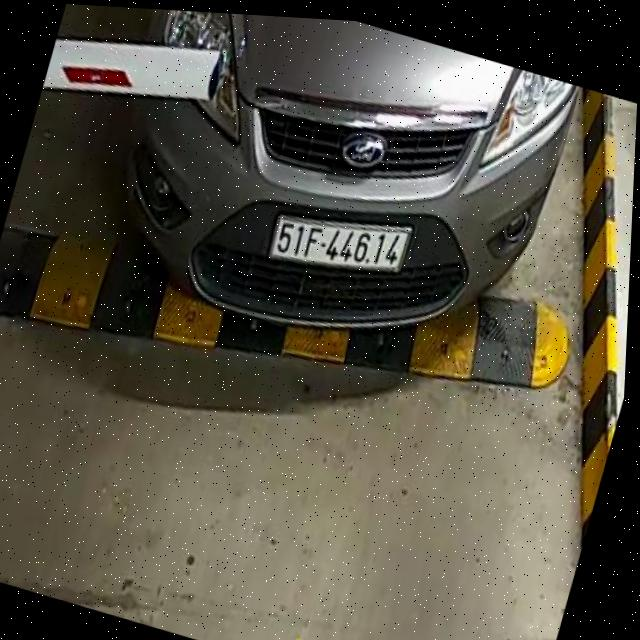car: (62, 5, 596, 407)
plate: (267, 192, 415, 292)
